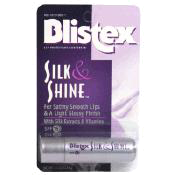grozi_62: (35, 3, 140, 172)
